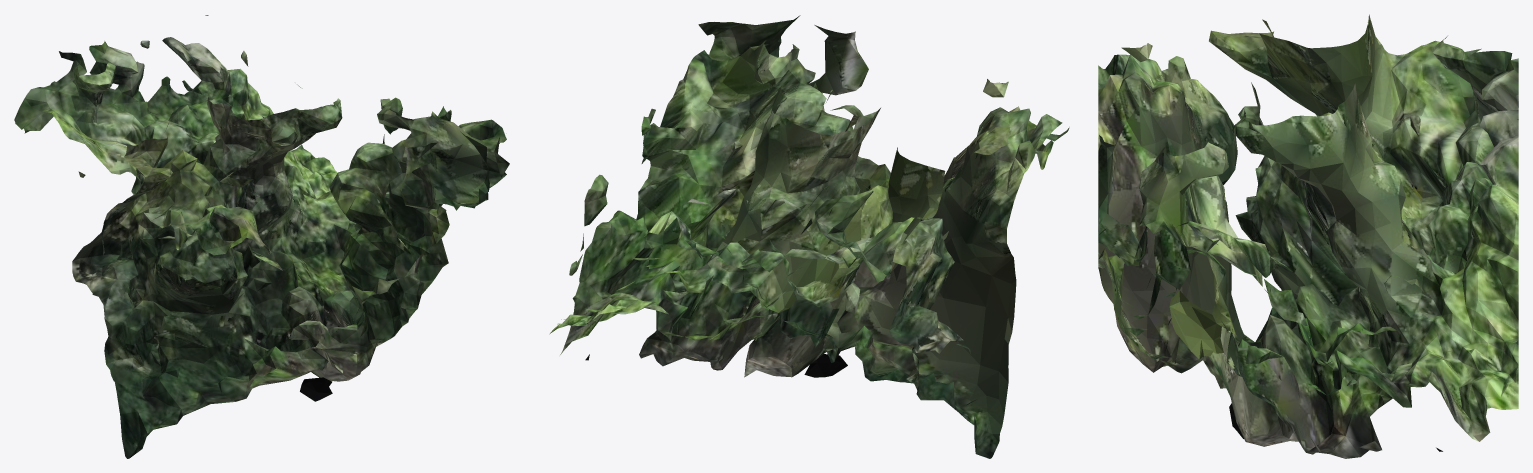
3 renders of one model, left to right at view 1: azimuth 30°, elevation 25°; view 2: azimuth 150°, elevation 25°; view 3: azimuth 270°, elevation 25°, orthographic. The views are drawn at different scales.
Size of the model in its own units: 26.11 by 23.91 by 26.11.
Materials: 8 (8 with a texture image).
